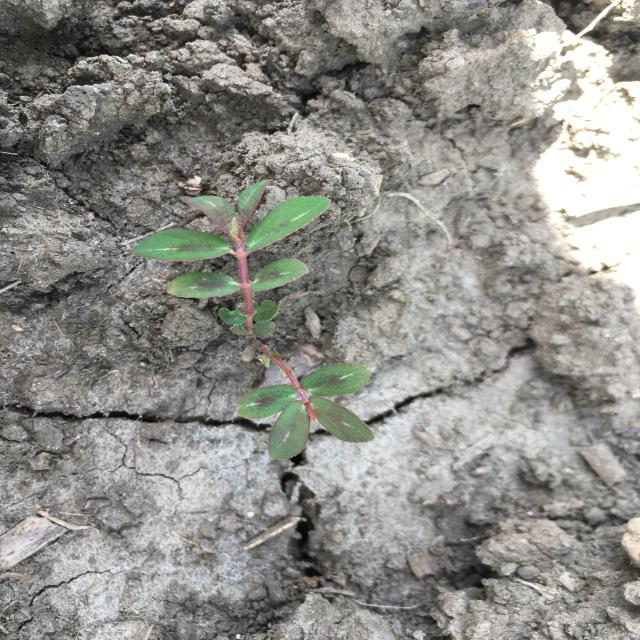SpottedSpurge: (133, 179, 376, 460)
